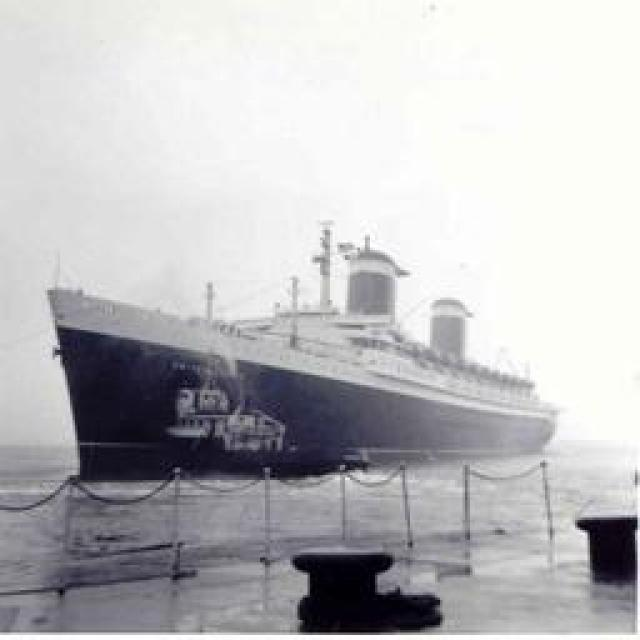Ship: (54, 232, 564, 472)
